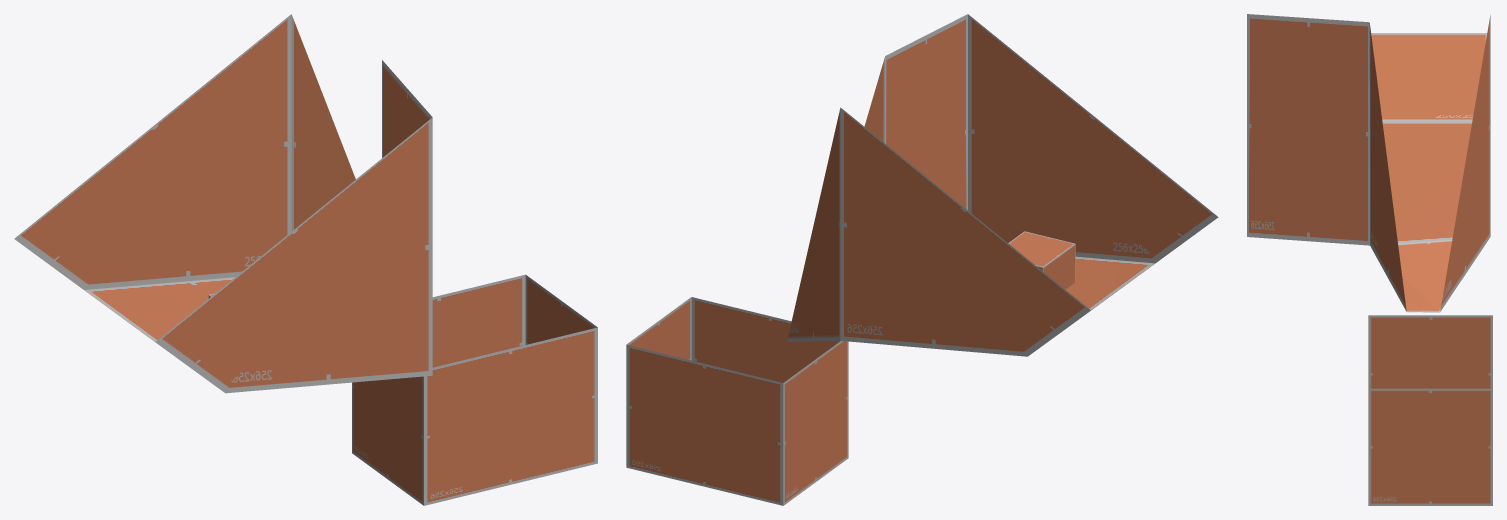
The model's file is sandbox.obj.
3 views of the same model, side by side, from view 1: azimuth 30°, elevation 25°; view 2: azimuth 150°, elevation 25°; view 3: azimuth 270°, elevation 25° (orthographic). The views are drawn at different scales.
Size of the model in its own units: 41.06 by 34.85 by 19.75.
Materials: 1 (1 with a texture image).
